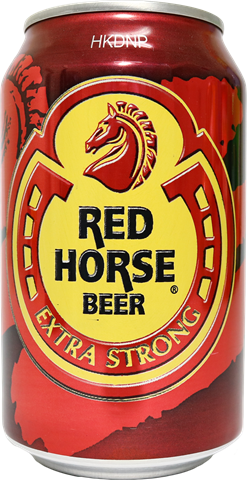beer can: (2, 3, 243, 480)
